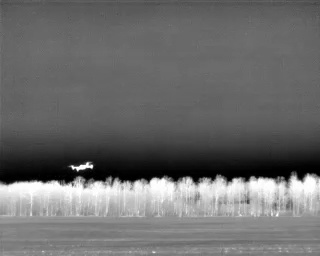DRONE: (66, 157, 97, 175)
